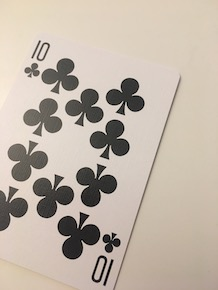TenOfClubs: (1, 28, 182, 290)
